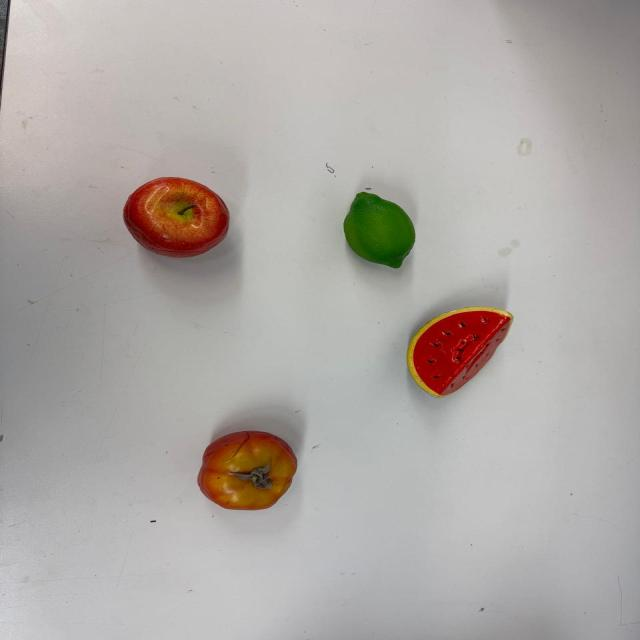apple: (122, 177, 230, 257)
lemon: (344, 192, 416, 268)
tomato: (197, 430, 297, 511)
watermelon: (406, 306, 512, 398)
